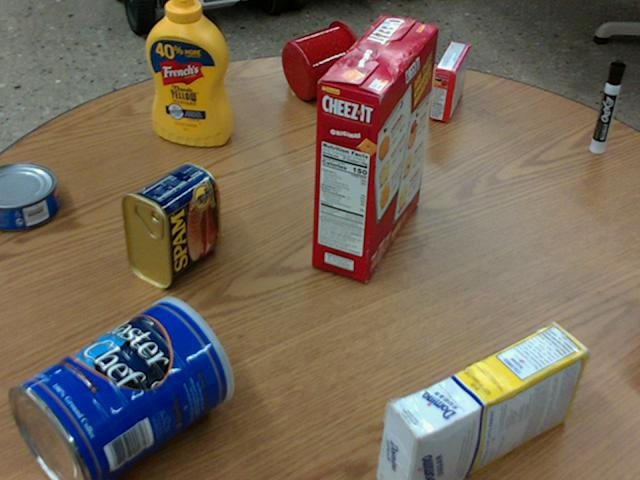cracker_box: (312, 15, 435, 280)
gelatin_box: (429, 41, 471, 122)
large_marker: (590, 59, 624, 152)
master_chef_can: (9, 296, 232, 479)
mug: (280, 19, 364, 99)
mustard_bottle: (145, 0, 230, 145)
potted_meat_can: (119, 161, 217, 287)
sugar_box: (375, 321, 586, 479)
tuna_fish_can: (0, 162, 59, 229)
